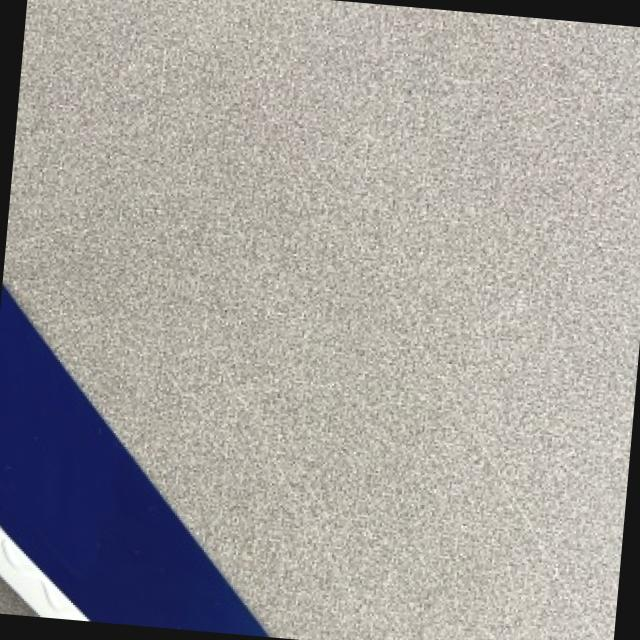healthy: (5, 0, 640, 640)
